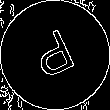P_SE: (27, 24, 83, 86)
